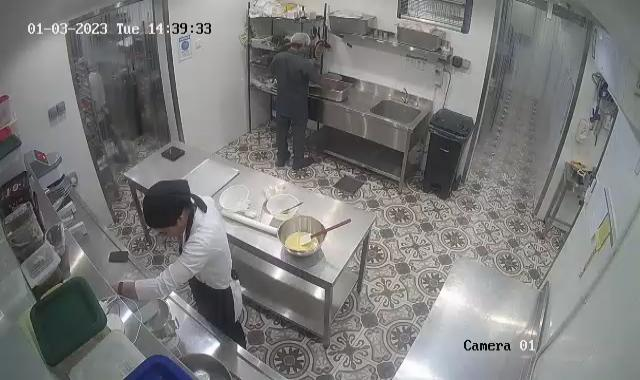hairnet: (288, 30, 310, 54)
no_hairnet: (143, 176, 195, 241)
